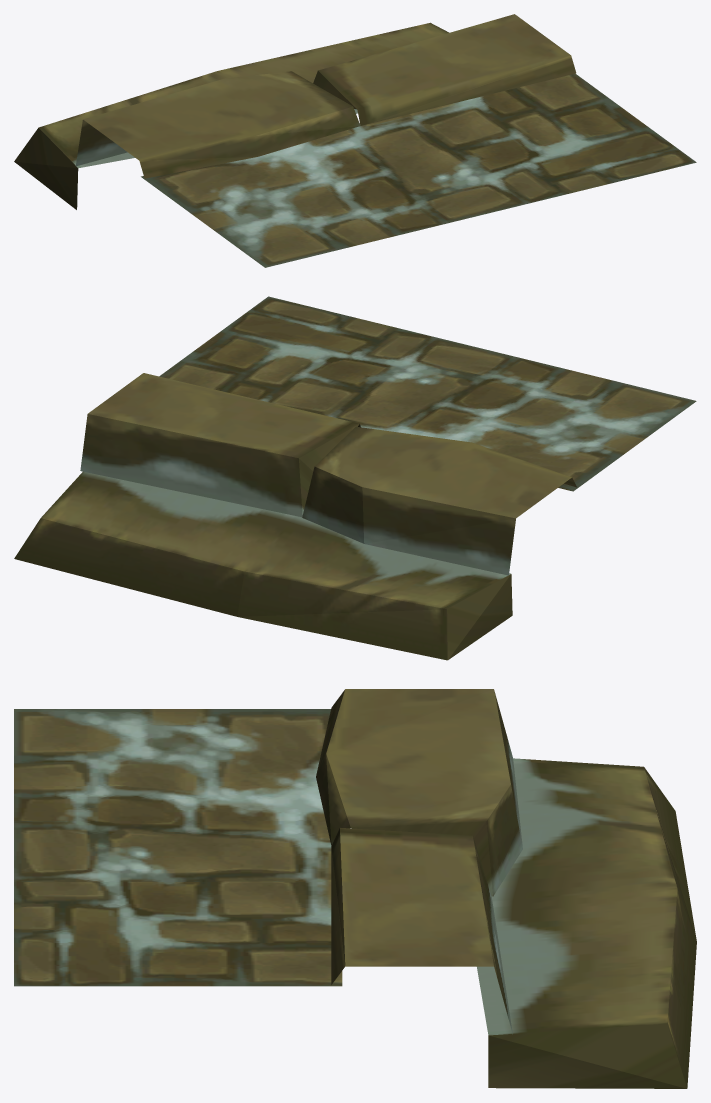
The model's file is tundra_dias_straight_01.fbx.
3 renders of one model, top to bottom at view 1: azimuth 30°, elevation 25°; view 2: azimuth 150°, elevation 25°; view 3: azimuth 270°, elevation 25°, orthographic. The views are drawn at different scales.
Parts seen in each view (by area): view 1: obj0.127; view 2: obj0.127; view 3: obj0.127.
Part boxes in pixels (x1,y1,x2,y2): obj0.127: (14, 14, 696, 267); obj0.127: (14, 296, 696, 660); obj0.127: (14, 689, 696, 1088).
Bounding box in the file's own units: 4.05 × 0.8653 × 4.16.
